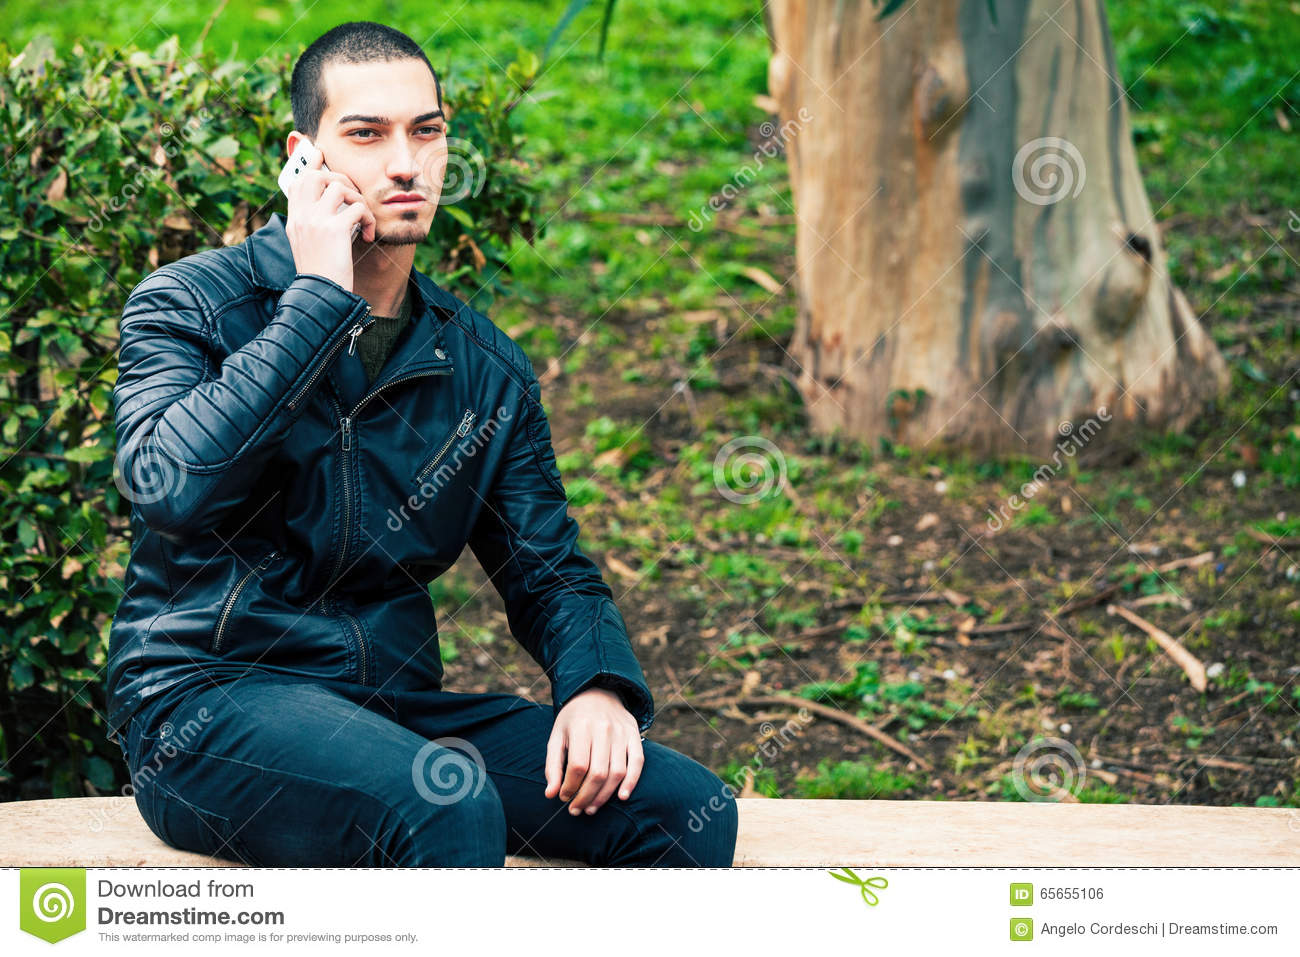phone: (280, 135, 359, 245)
talk: (279, 105, 444, 298)
